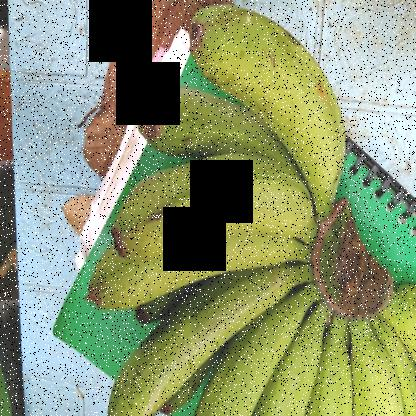freshunripe: (186, 4, 358, 193), (106, 157, 316, 264), (86, 226, 310, 318), (195, 282, 330, 415), (135, 89, 274, 163), (340, 295, 410, 415), (388, 282, 416, 415)
unripe: (102, 253, 298, 415)
